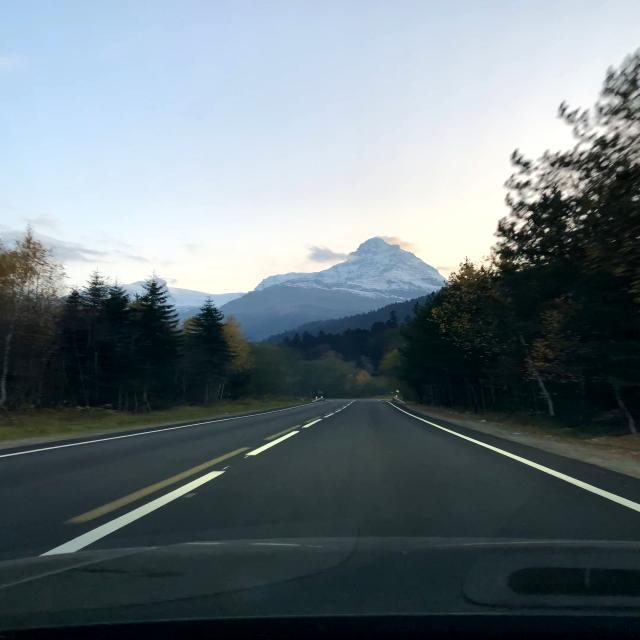lane: (392, 404, 639, 508), (54, 471, 219, 554), (247, 431, 297, 455), (303, 419, 320, 426)
road: (2, 400, 638, 638)
